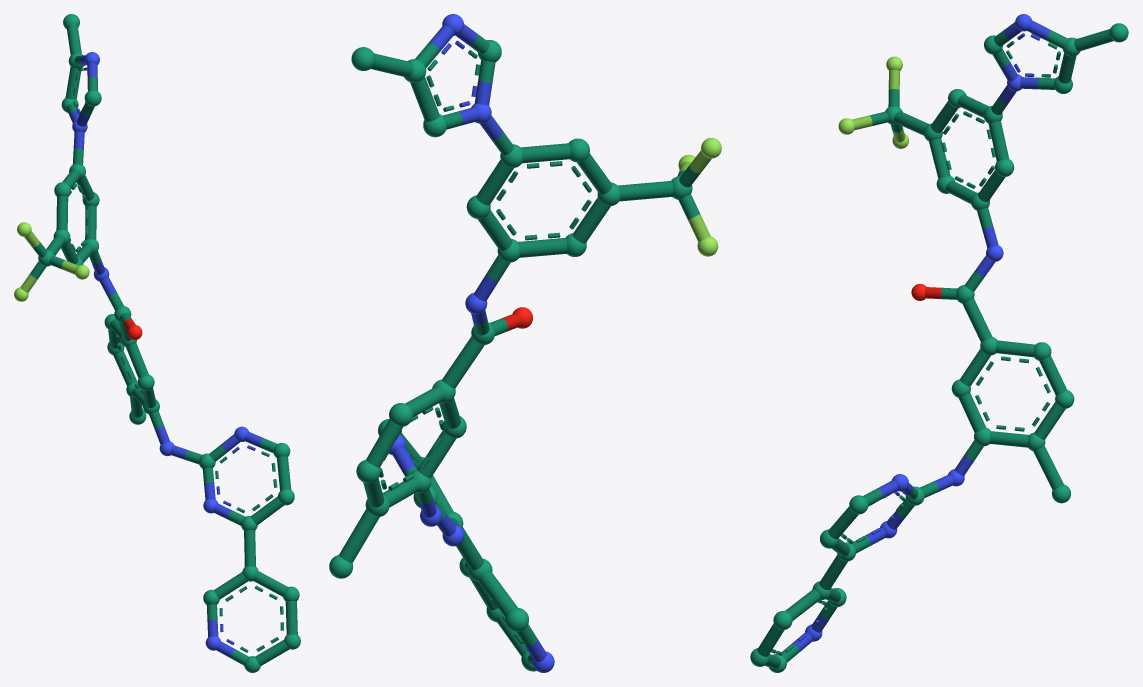
The model's file is inhibitor2.glb.
The picture shows the model from 3 angles, left to right: view 1: azimuth 30°, elevation 25°; view 2: azimuth 150°, elevation 25°; view 3: azimuth 270°, elevation 25°; orthographic projection. The views are drawn at different scales.
Visible parts, largest first — view 1: NILX_nilinitob, NILX_Mesh_2; view 2: NILX_nilinitob, NILX_Mesh_2; view 3: NILX_nilinitob, NILX_Mesh_2.
Boxes of the visible parts, x1,y1,x2,y2 form: NILX_nilinitob: [20, 23, 297, 665]; NILX_Mesh_2: [14, 14, 300, 672]; NILX_nilinitob: [339, 24, 711, 666]; NILX_Mesh_2: [329, 14, 721, 672]; NILX_nilinitob: [757, 20, 1113, 668]; NILX_Mesh_2: [750, 14, 1128, 672].
Bounding box in the file's own units: 1.11 × 2.29 × 1.25.
